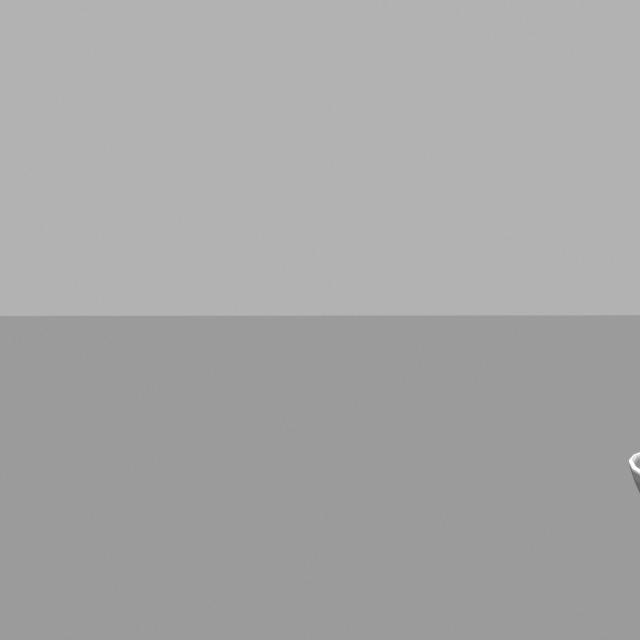bowl: (620, 434, 640, 504)
